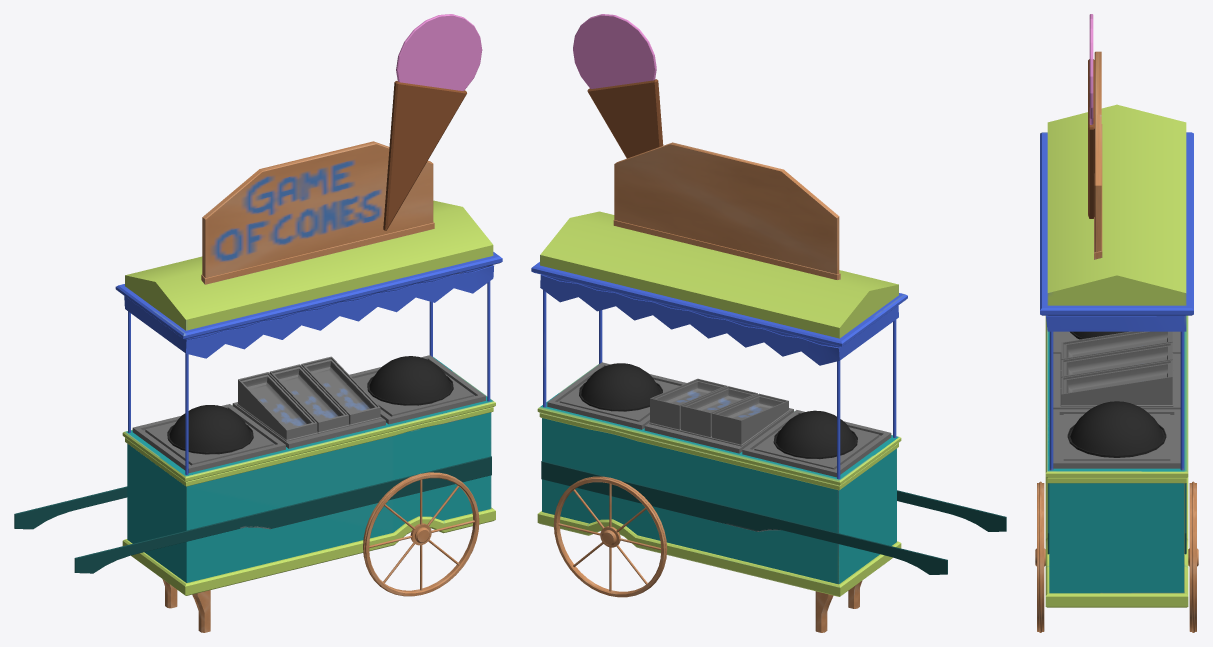
The model's file is Wagon.fbx.
3 renders of one model, left to right at view 1: azimuth 30°, elevation 25°; view 2: azimuth 150°, elevation 25°; view 3: azimuth 270°, elevation 25°, orthographic. The views are drawn at different scales.
Visible parts, largest first — view 1: Wagon; view 2: Wagon; view 3: Wagon.
Boxes of the visible parts, left/top/right/bottom form: Wagon: left=14, top=14, right=502, bottom=632; Wagon: left=531, top=14, right=1006, bottom=632; Wagon: left=1035, top=14, right=1198, bottom=632.
Bounding box in the file's own units: 14.66 × 18.19 × 4.28.
